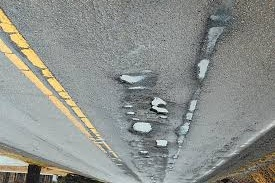pothole: (198, 27, 223, 57), (193, 58, 213, 85), (114, 71, 147, 86), (149, 95, 169, 116), (127, 120, 152, 133), (173, 122, 198, 135), (208, 13, 231, 22), (186, 99, 200, 112), (181, 110, 196, 121), (155, 138, 169, 149), (175, 133, 187, 144), (137, 150, 149, 157), (121, 102, 133, 109), (126, 111, 138, 116)
